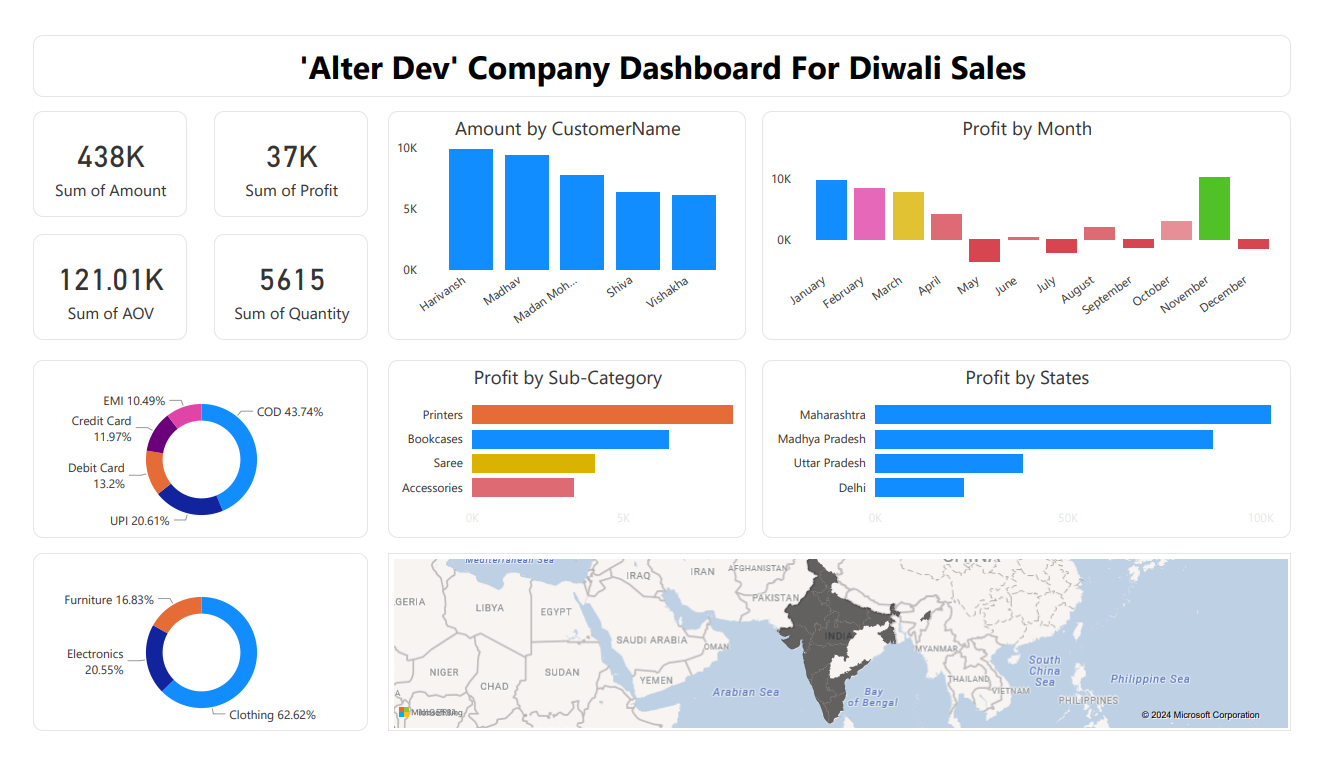

The page's visual inventory and layout, read from the dashboard file:
{"tool":"powerbi","page":{"name":"Page 1","canvas":[1280,720],"ordinal":0},"visuals":[{"type":"textbox","box":[10,13,1258,62],"z":0},{"type":"columnChart","title":"Profit by Month","fields":{"Category":["Orders.Order Date.Variation.Date Hierarchy.Month"],"Y":["Details.Profit"]},"box":[739.2,88.5,529.1,229.5],"z":1000},{"type":"barChart","title":"Profit by Sub-Category","fields":{"Category":["Details.Sub-Category"],"Y":["Details.Profit"]},"box":[364.7,338.5,357.9,178],"z":2000},{"type":"donutChart","title":"Category","fields":{"Category":["Details.Category"],"Y":["Details.Quantity"]},"box":[9.7,531.1,335.6,178],"z":3000},{"type":"donutChart","title":"Payment Mode","fields":{"Category":["Details.PaymentMode"],"Y":["Details.Quantity"]},"box":[9.7,338.5,335.6,178],"z":4000},{"type":"card","fields":{"Values":["Details.Amount"]},"box":[9.7,88.5,154.7,106],"z":5000},{"type":"card","fields":{"Values":["Details.Profit"]},"box":[190.6,88.5,154.7,106],"z":6000},{"type":"card","fields":{"Values":["Details.Quantity"]},"box":[190.6,212,154.7,106],"z":7000},{"type":"card","fields":{"Values":["Details.AOV"]},"box":[9.7,212,154.7,106],"z":8000},{"type":"barChart","title":"Profit by States","fields":{"Category":["Orders.State"],"Y":["Details.Amount"]},"box":[739.2,338.5,529.1,178],"z":9000},{"type":"columnChart","title":"Amount by CustomerName","fields":{"Category":["Orders.CustomerName"],"Y":["Details.Amount"]},"box":[364.7,88.5,357.9,229.5],"z":10000},{"type":"filledMap","fields":{"Category":["Orders.State"]},"box":[364.7,531.1,903.6,178],"z":11000}]}

Visuals, with their boxes in screenshot pixels (x1, y1, x2, y2), scaled from the page's 1280x720 canvas onto the 1326x765 screenshot:
textbox: x1=10 y1=14 x2=1314 y2=80
"Profit by Month" columnChart: x1=766 y1=94 x2=1314 y2=338
"Profit by Sub-Category" barChart: x1=378 y1=360 x2=749 y2=549
"Category" donutChart: x1=10 y1=564 x2=358 y2=753
"Payment Mode" donutChart: x1=10 y1=360 x2=358 y2=549
card - Details.Amount: x1=10 y1=94 x2=170 y2=207
card - Details.Profit: x1=197 y1=94 x2=358 y2=207
card - Details.Quantity: x1=197 y1=225 x2=358 y2=338
card - Details.AOV: x1=10 y1=225 x2=170 y2=338
"Profit by States" barChart: x1=766 y1=360 x2=1314 y2=549
"Amount by CustomerName" columnChart: x1=378 y1=94 x2=749 y2=338
filledMap - Orders.State: x1=378 y1=564 x2=1314 y2=753
